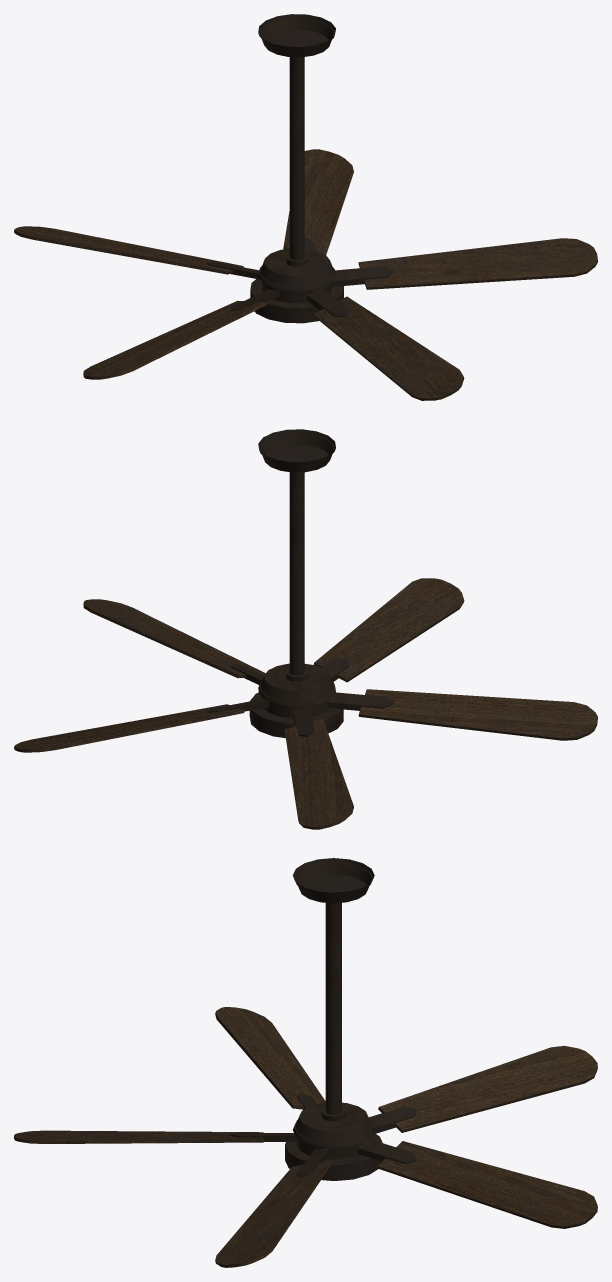
Rendered from ceiling_fan_mp_2.obj.
3 renders of one model, top to bottom at view 1: azimuth 30°, elevation 25°; view 2: azimuth 150°, elevation 25°; view 3: azimuth 270°, elevation 25°, orthographic. The views are drawn at different scales.
Visible parts, largest first — view 1: ceiling_fan_mp_2_blades, ceiling_fan_mp_2; view 2: ceiling_fan_mp_2_blades, ceiling_fan_mp_2; view 3: ceiling_fan_mp_2_blades, ceiling_fan_mp_2.
Part boxes in pixels (box(x1,y1,x2,y2)): ceiling_fan_mp_2_blades: box(14, 149, 597, 400); ceiling_fan_mp_2: box(250, 14, 343, 323); ceiling_fan_mp_2_blades: box(14, 578, 597, 829); ceiling_fan_mp_2: box(249, 429, 343, 737); ceiling_fan_mp_2_blades: box(14, 1007, 597, 1267); ceiling_fan_mp_2: box(285, 858, 382, 1180).
Bounding box in the file's own units: 1.11 × 0.5915 × 1.06.
